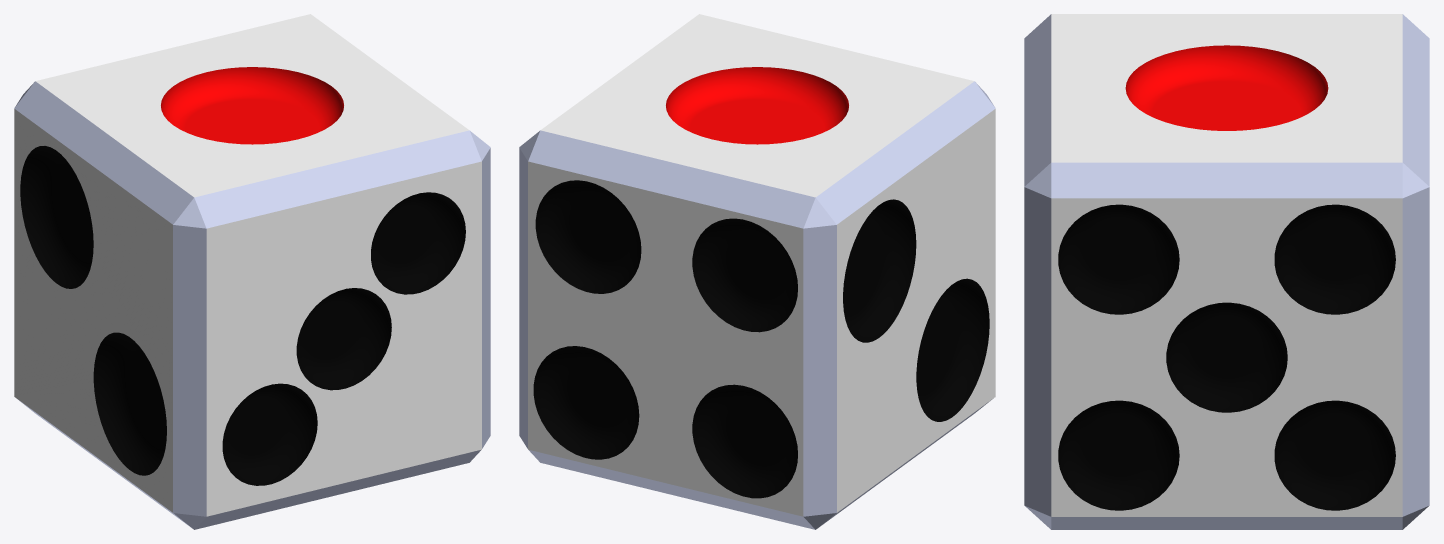
The model's file is konsisu.glb.
3 views of the same model, side by side, from view 1: azimuth 30°, elevation 25°; view 2: azimuth 150°, elevation 25°; view 3: azimuth 270°, elevation 25° (orthographic). The views are drawn at different scales.
Visible parts, largest first — view 1: コンシス授業; view 2: コンシス授業; view 3: コンシス授業.
Part boxes in pixels (box(x1,y1,x2,y2)): コンシス授業: box(14, 14, 490, 529); コンシス授業: box(519, 14, 995, 529); コンシス授業: box(1024, 14, 1429, 529).
Bounding box in the file's own units: 0.03 × 0.03 × 0.03.
